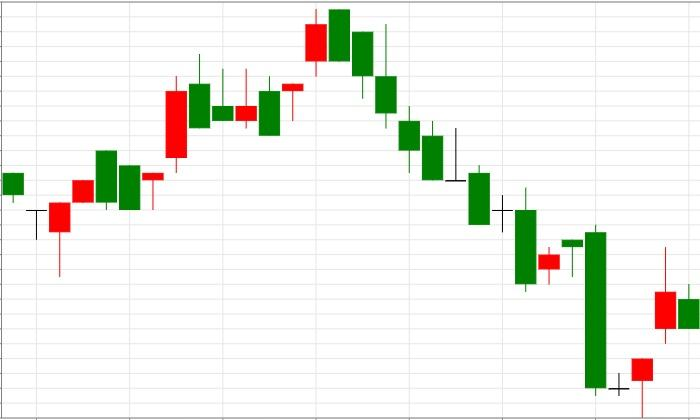morning_star_rise: (329, 9, 654, 419)
